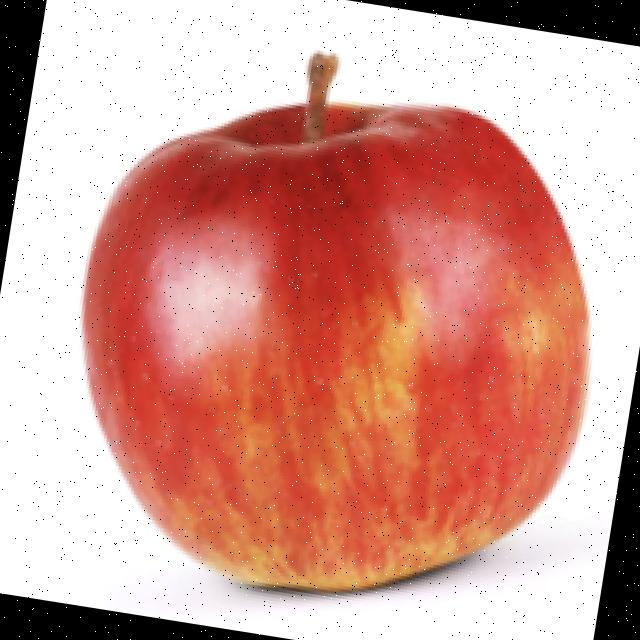apple: (75, 46, 594, 619)
